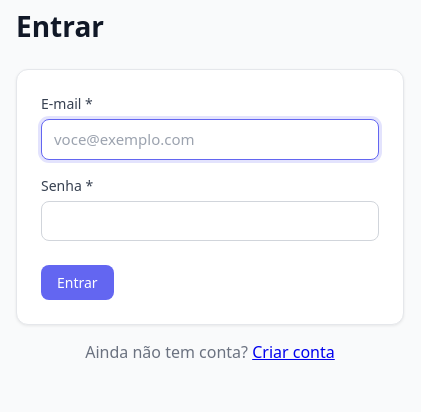
Scenario: LoginPage › credenciais erradas mostram mensagem, sem navegar
In the field labelled "E-mail *": (210, 139) [41,119,379,160], type "ana@x.com"
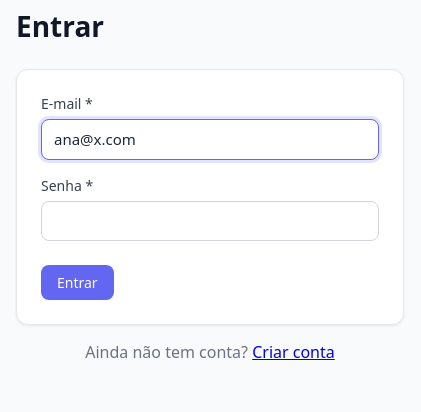
In the password field labelled "Senha *": (210, 221) [41,200,379,241], type "errada"
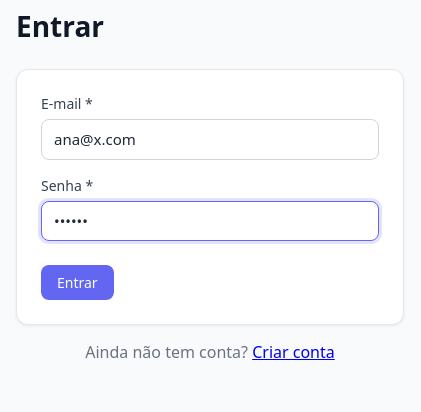
Click the button "Entrar": (77, 282) [41,265,114,300]
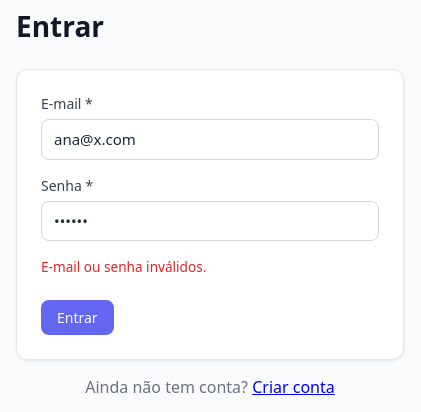
Result: the text "E-mail ou senha inválidos." is shown at [41,257,206,276]
